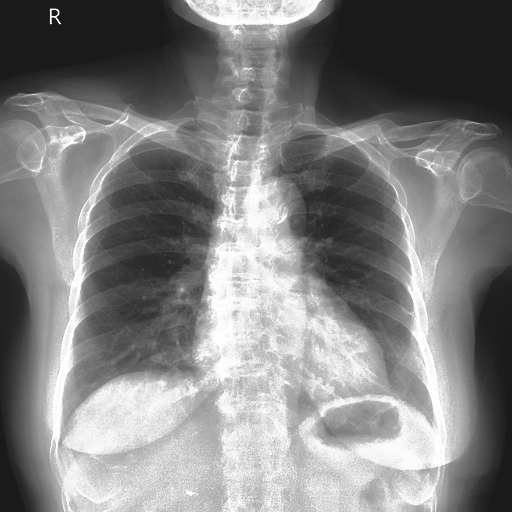Consolidation: (253, 177, 307, 233)
